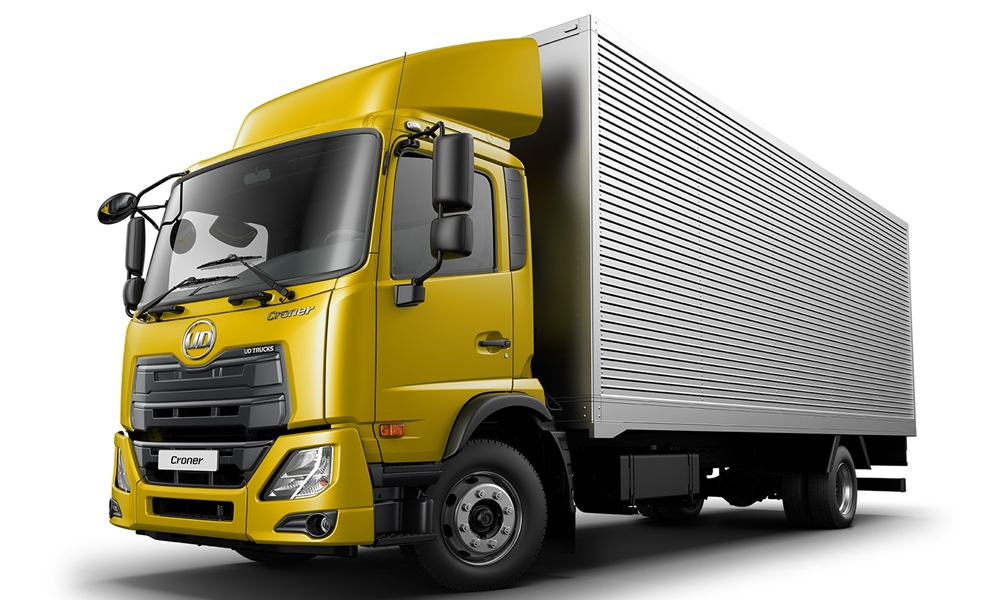truck: (112, 15, 919, 591)
